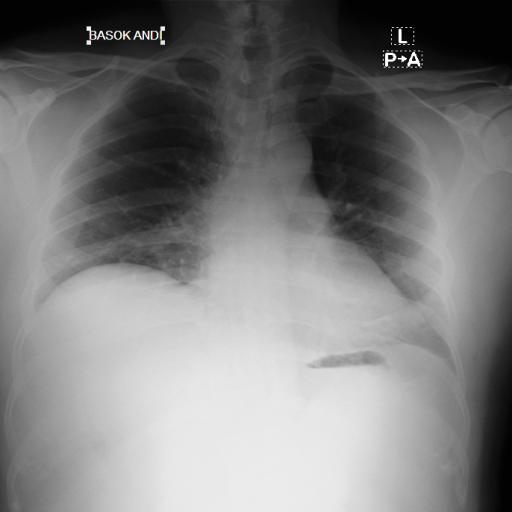kardiomegali: (20, 24, 462, 388)
